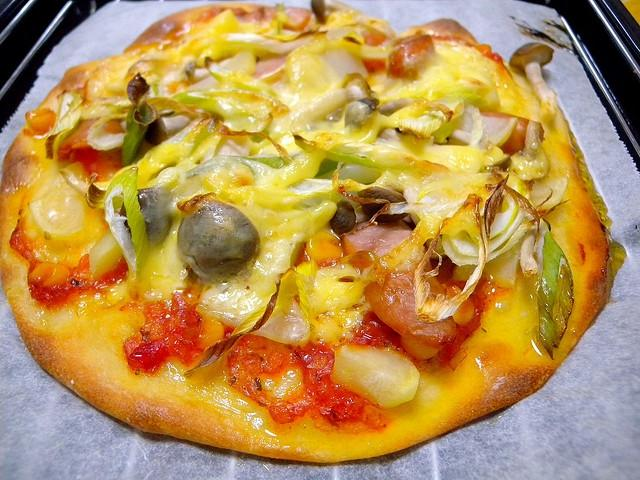green onion: (105, 166, 152, 274), (538, 232, 574, 360), (255, 152, 325, 190), (120, 100, 156, 167), (158, 90, 212, 118), (322, 144, 376, 168), (431, 114, 463, 146)
mushroom: (178, 200, 260, 285), (119, 188, 174, 252), (508, 42, 558, 112), (356, 186, 409, 222), (144, 112, 196, 146), (126, 71, 150, 129), (343, 96, 380, 133), (184, 57, 233, 84), (329, 200, 356, 236), (520, 225, 537, 278), (310, 0, 327, 24)
